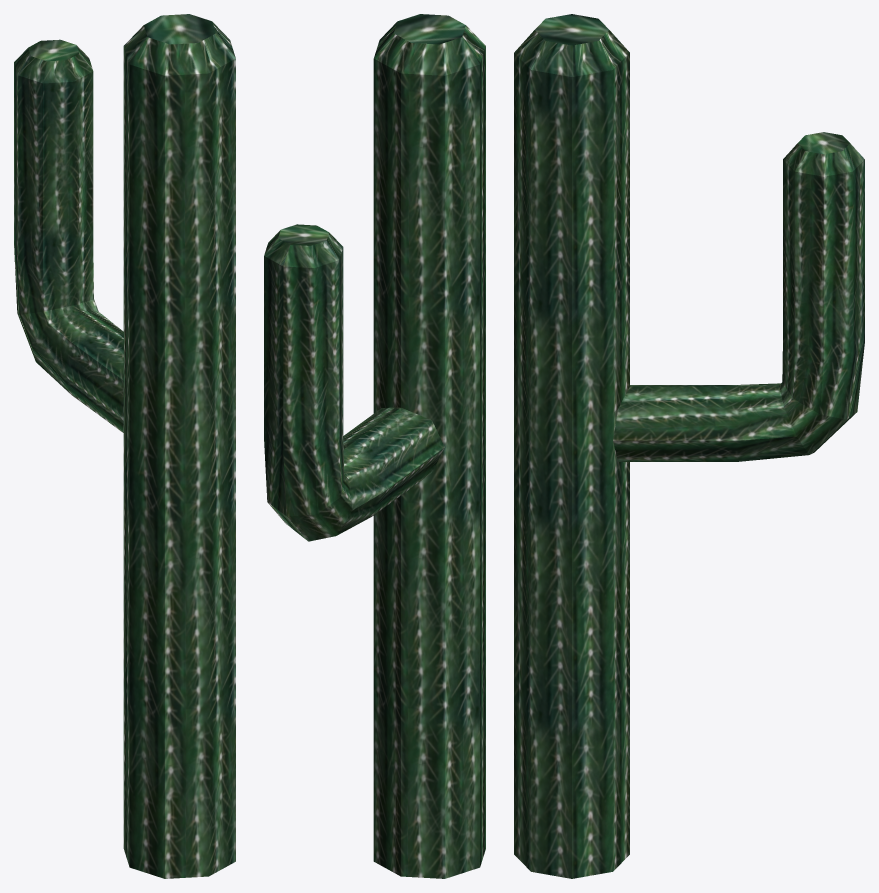
Rendered from cactus_3.fbx.
3 views of the same model, side by side, from view 1: azimuth 30°, elevation 25°; view 2: azimuth 150°, elevation 25°; view 3: azimuth 270°, elevation 25° (orthographic).
Parts seen in each view (by area): view 1: Cylinder; view 2: Cylinder; view 3: Cylinder.
Boxes of the visible parts, left/top/right/bottom form: Cylinder: left=14, top=14, right=235, bottom=878; Cylinder: left=264, top=14, right=485, bottom=878; Cylinder: left=514, top=14, right=864, bottom=878.
Size of the model in its own units: 80.51 by 632 by 244.
1 material, 1 textured.
